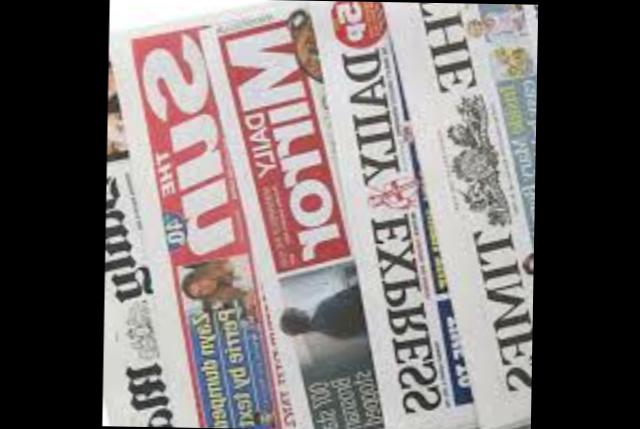cardboard paper: (102, 0, 534, 429)
